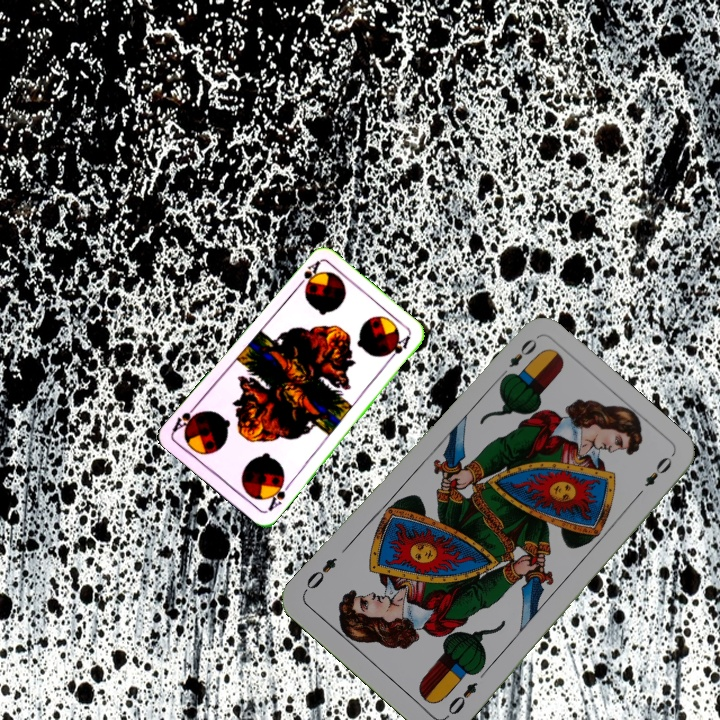EO: (496, 334, 540, 382), (443, 678, 480, 718)
SA: (263, 475, 293, 514), (292, 257, 323, 292)
